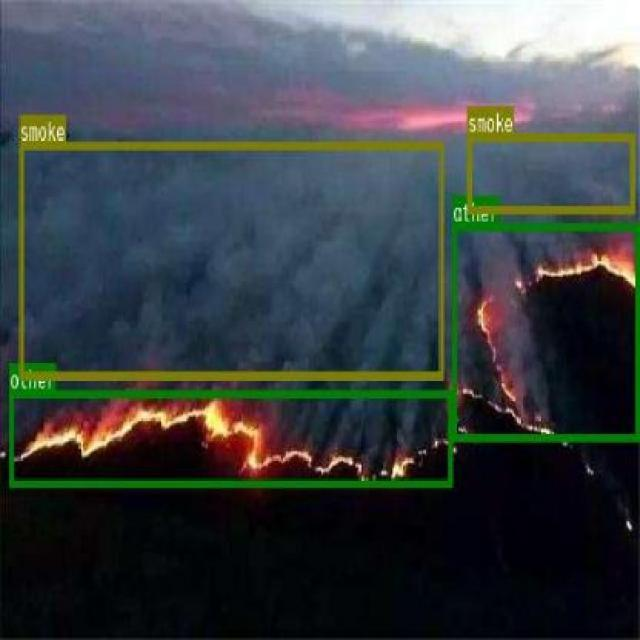Smoke: (20, 141, 442, 377), (467, 133, 633, 212)
